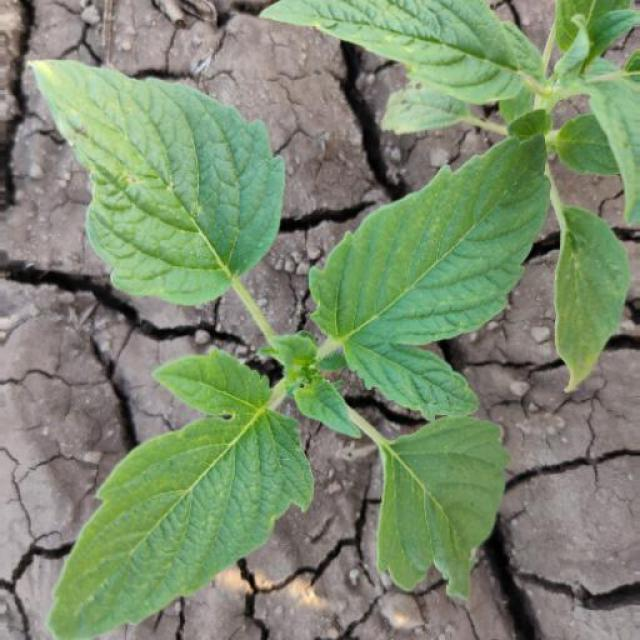crop: (11, 59, 578, 640)
